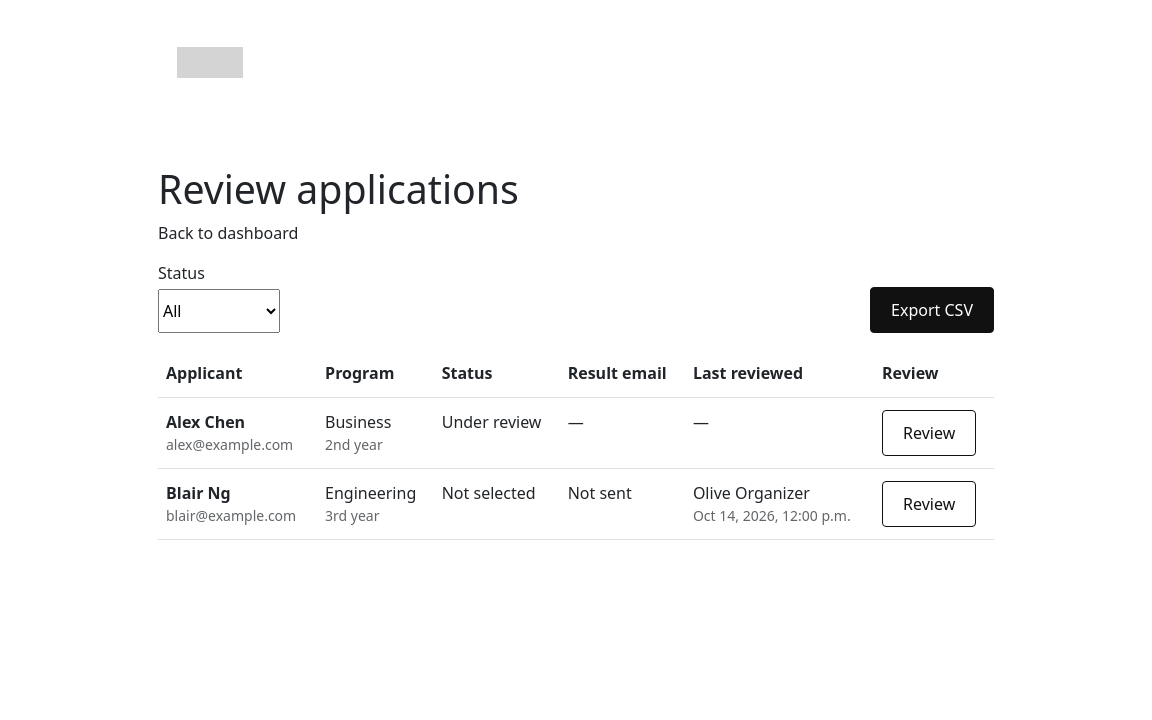
Test case: OrganizerReview › shows full answers and decision history in the detail panel
Expected: the column heading "Blair Ng" is shown, [166, 482, 231, 504]
Click the button with aria-label "Review Blair Ng": (929, 504) [882, 481, 976, 527]
(page scrolled)
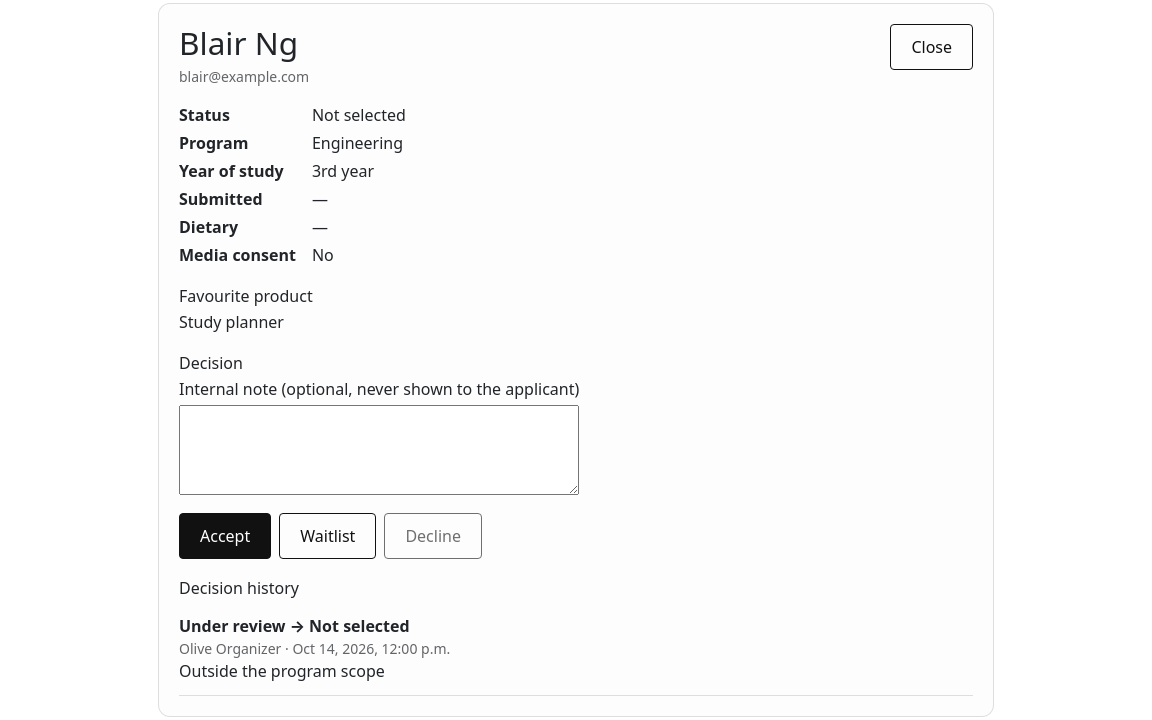
Now the element named "Review Blair Ng" shows "Study planner", box [179, 311, 284, 333]
Now the element named "Review Blair Ng" shows "Outside the program scope", box [179, 660, 385, 682]
Now the element named "Review Blair Ng" shows "Olive Organizer", box [179, 639, 281, 658]
